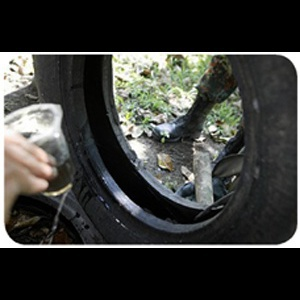tire: (32, 53, 300, 246)
